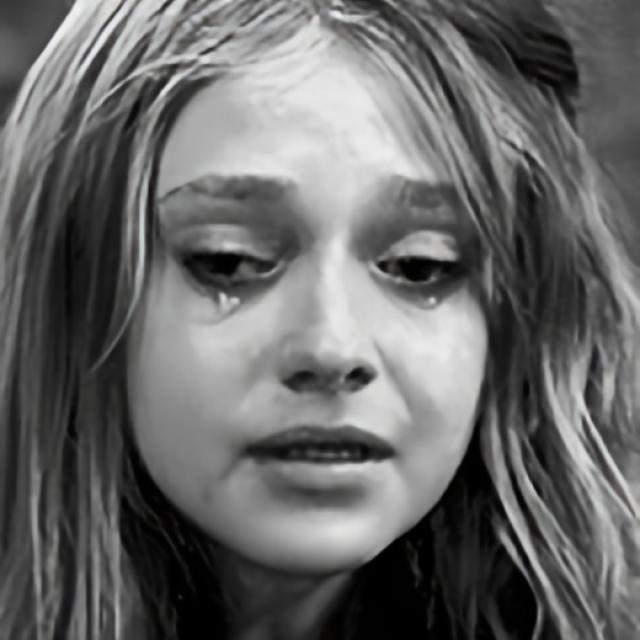sad: (118, 41, 494, 572)
